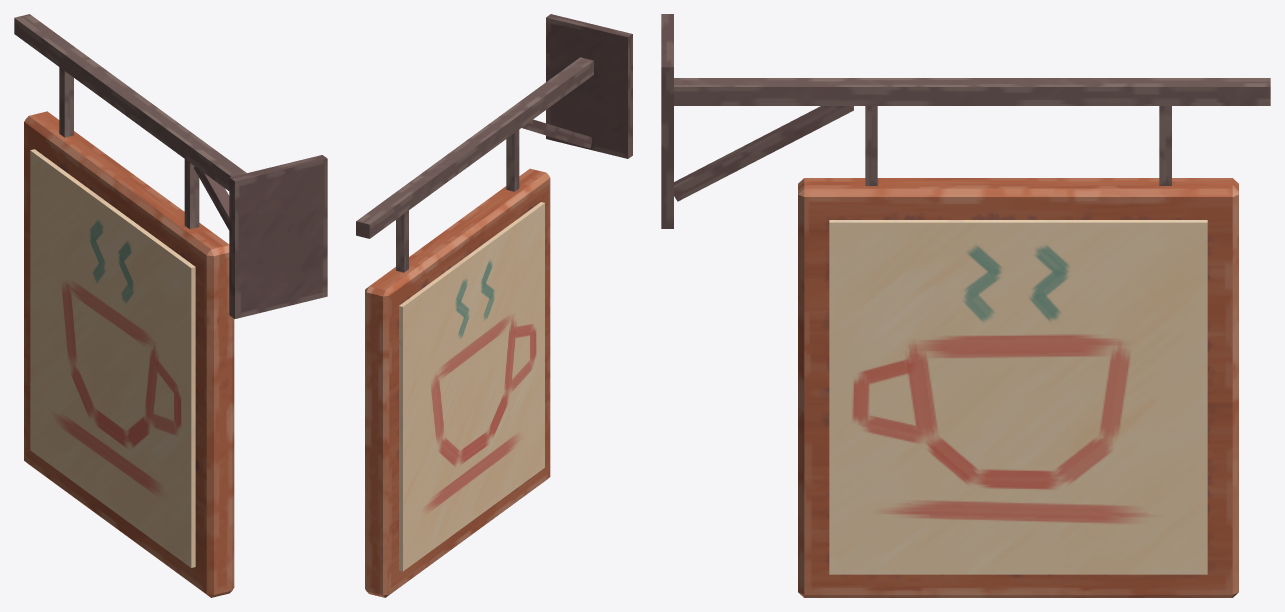
Rendered from sign_tea_body.fbx.
3 renders of one model, left to right at view 1: azimuth 30°, elevation 25°; view 2: azimuth 150°, elevation 25°; view 3: azimuth 270°, elevation 25°, orthographic. The views are drawn at different scales.
Visible parts, largest first — view 1: sign_tea_body; view 2: sign_tea_body; view 3: sign_tea_body.
Boxes of the visible parts, x1,y1,x2,y2 form: sign_tea_body: (14, 14, 327, 597); sign_tea_body: (356, 14, 632, 597); sign_tea_body: (661, 14, 1270, 597).
Size of the model in its own units: 0.6 by 2.9 by 2.9.
